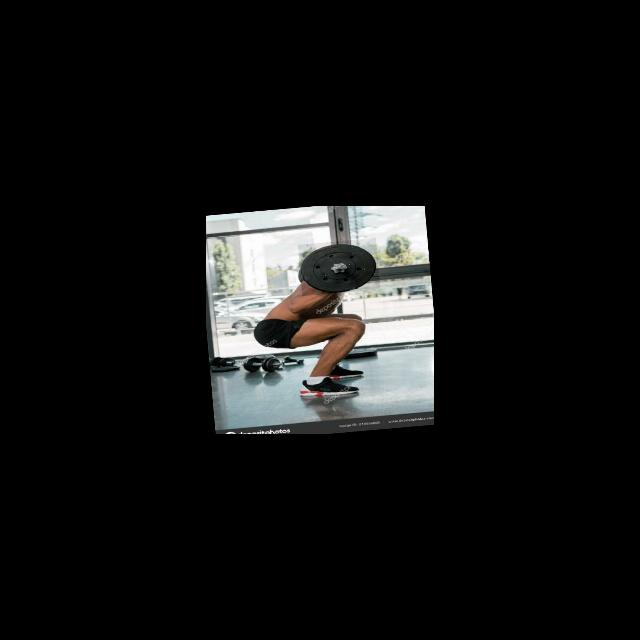barbell: (297, 238, 380, 296)
